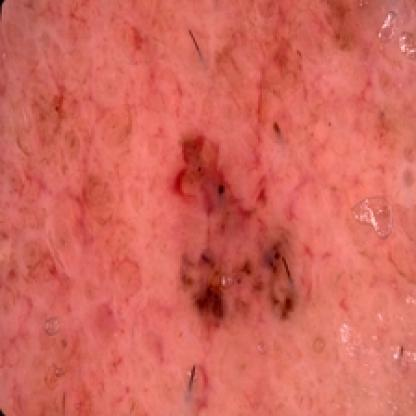Skin_Cancer-Malignant: (172, 128, 308, 335)
